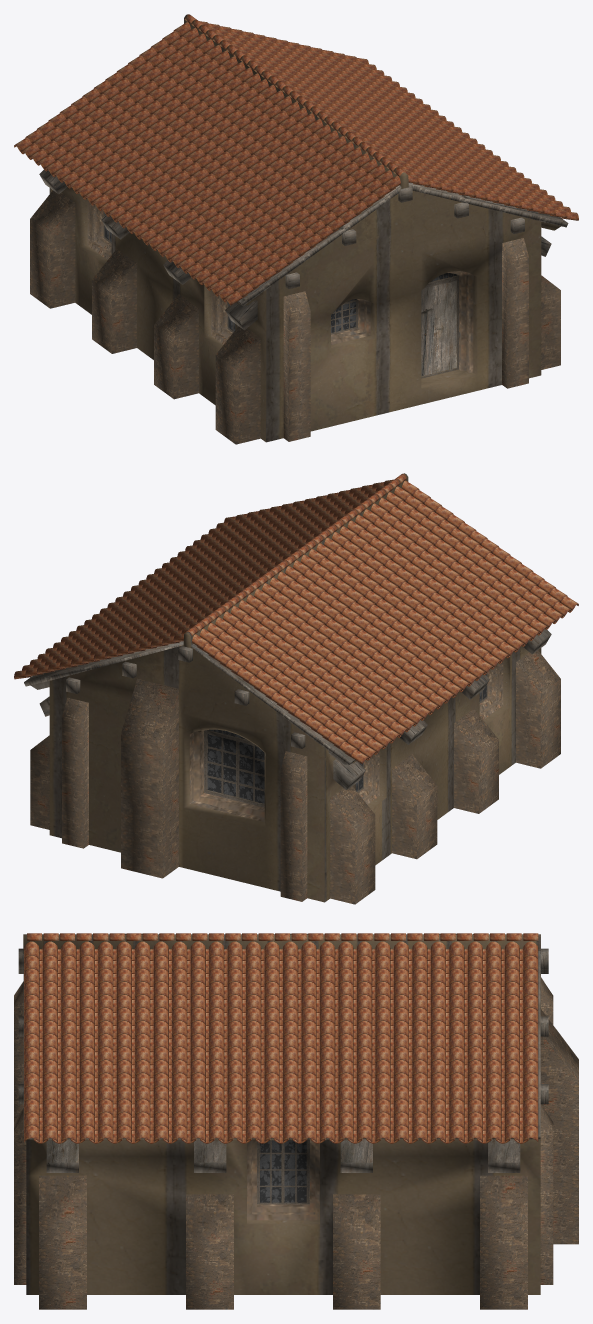
Rendered from house1.fbx.
3 views of the same model, one above another, from view 1: azimuth 30°, elevation 25°; view 2: azimuth 150°, elevation 25°; view 3: azimuth 270°, elevation 25° (orthographic). The views are drawn at different scales.
Parts seen in each view (by area): view 1: house1_LOD0; view 2: house1_LOD0; view 3: house1_LOD0.
Boxes of the visible parts, x1,y1,x2,y2 form: house1_LOD0: (14,14,578,444); house1_LOD0: (14,473,578,904); house1_LOD0: (14,933,578,1309).
Size of what is drawn, in the model's own units: 468 by 302 by 549.
